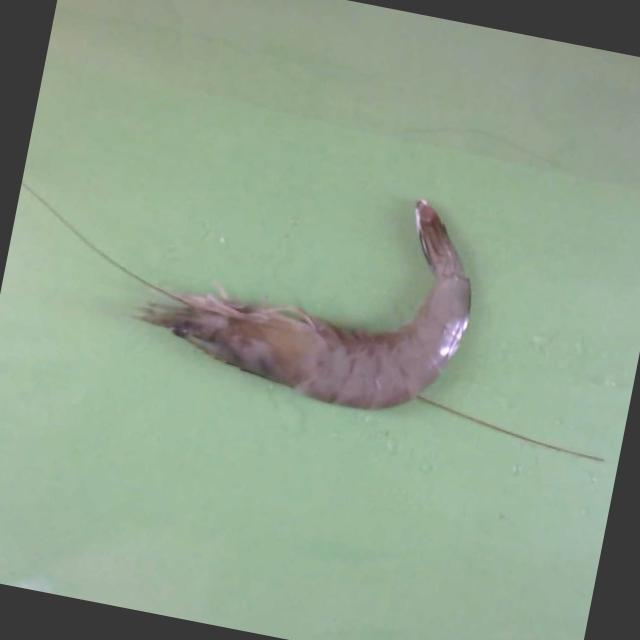shrimp: (140, 199, 470, 408)
